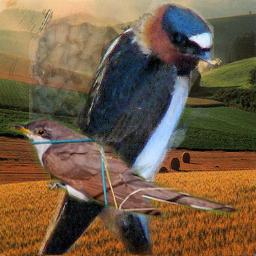Cuckoo: (6, 113, 243, 228)
Swallow: (29, 0, 214, 255)
